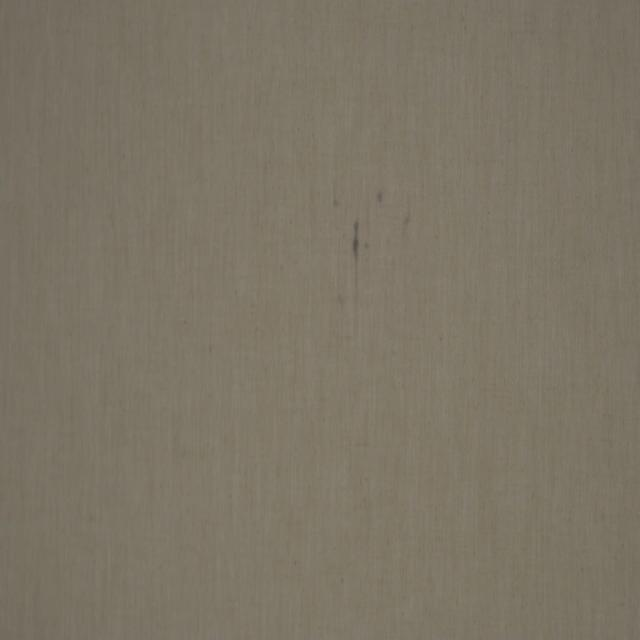dirty: (353, 220, 359, 263)
